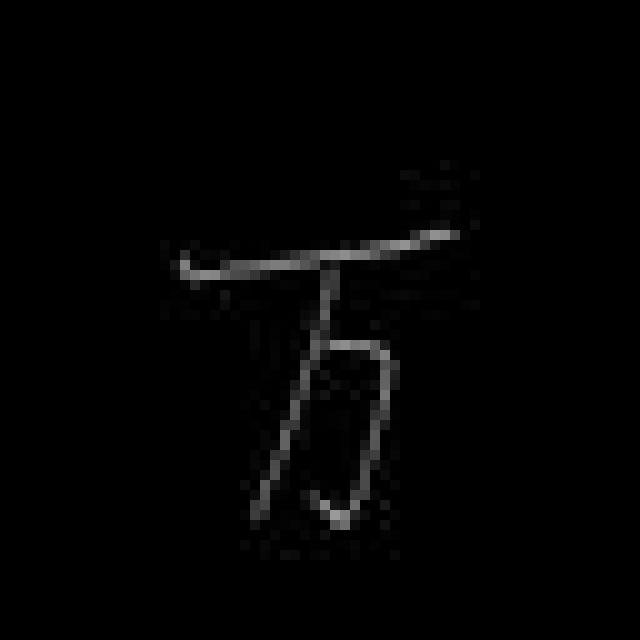10000 -a ten thousand-: (161, 206, 464, 531)
